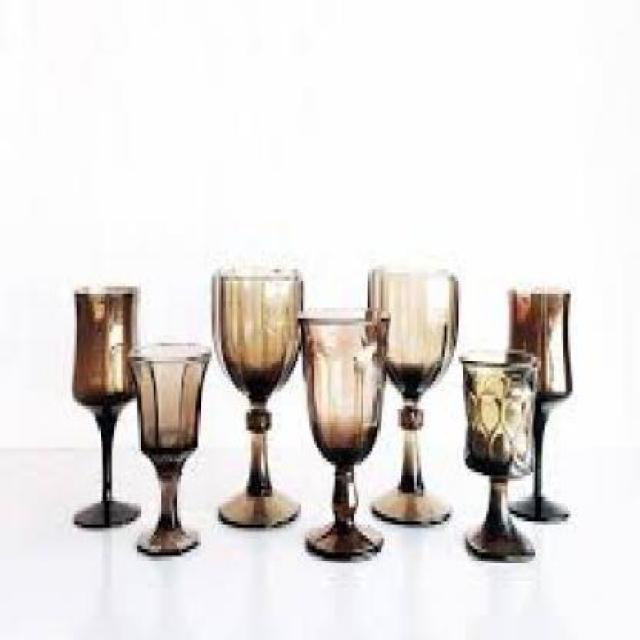kaca: (366, 266, 457, 525), (209, 269, 300, 528), (296, 305, 382, 560), (126, 340, 209, 557), (71, 286, 138, 525), (458, 349, 532, 560), (508, 286, 572, 522)
